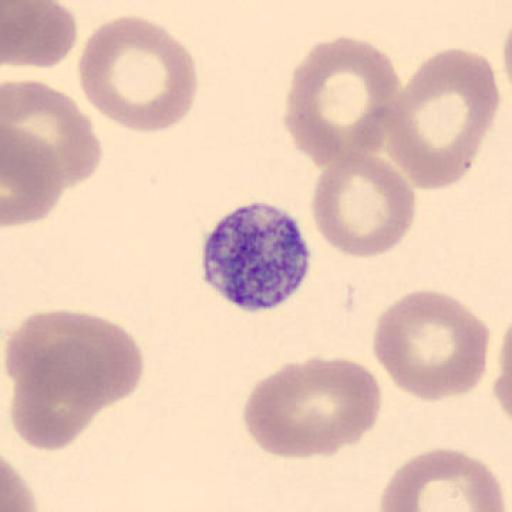Platelet: (197, 199, 315, 314)
RBC: (4, 308, 144, 451), (386, 47, 500, 191), (282, 35, 402, 170), (240, 354, 384, 460), (78, 14, 198, 134), (370, 288, 492, 403), (4, 308, 132, 413), (8, 323, 106, 450), (309, 150, 416, 259), (3, 77, 102, 190), (242, 358, 343, 460), (286, 355, 382, 459), (44, 310, 144, 408), (10, 358, 104, 450), (378, 445, 506, 512), (2, 124, 66, 229), (2, 0, 78, 69), (492, 315, 512, 424), (1, 455, 38, 512), (500, 18, 512, 102)
